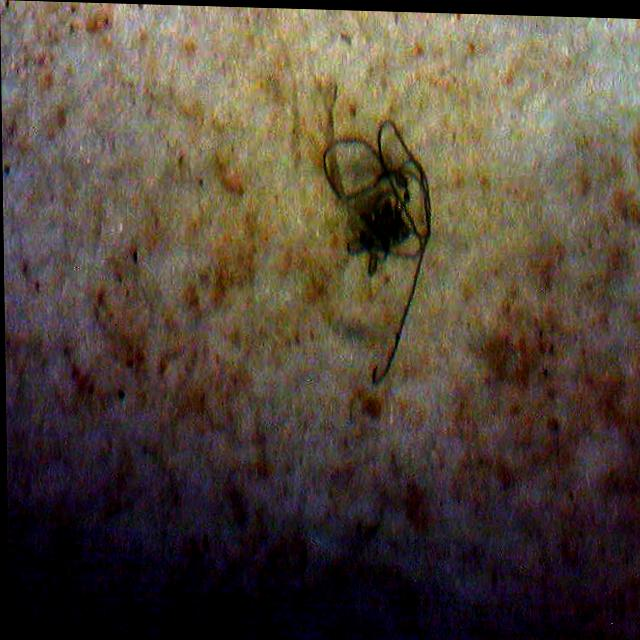microplastic: (321, 117, 429, 381)
